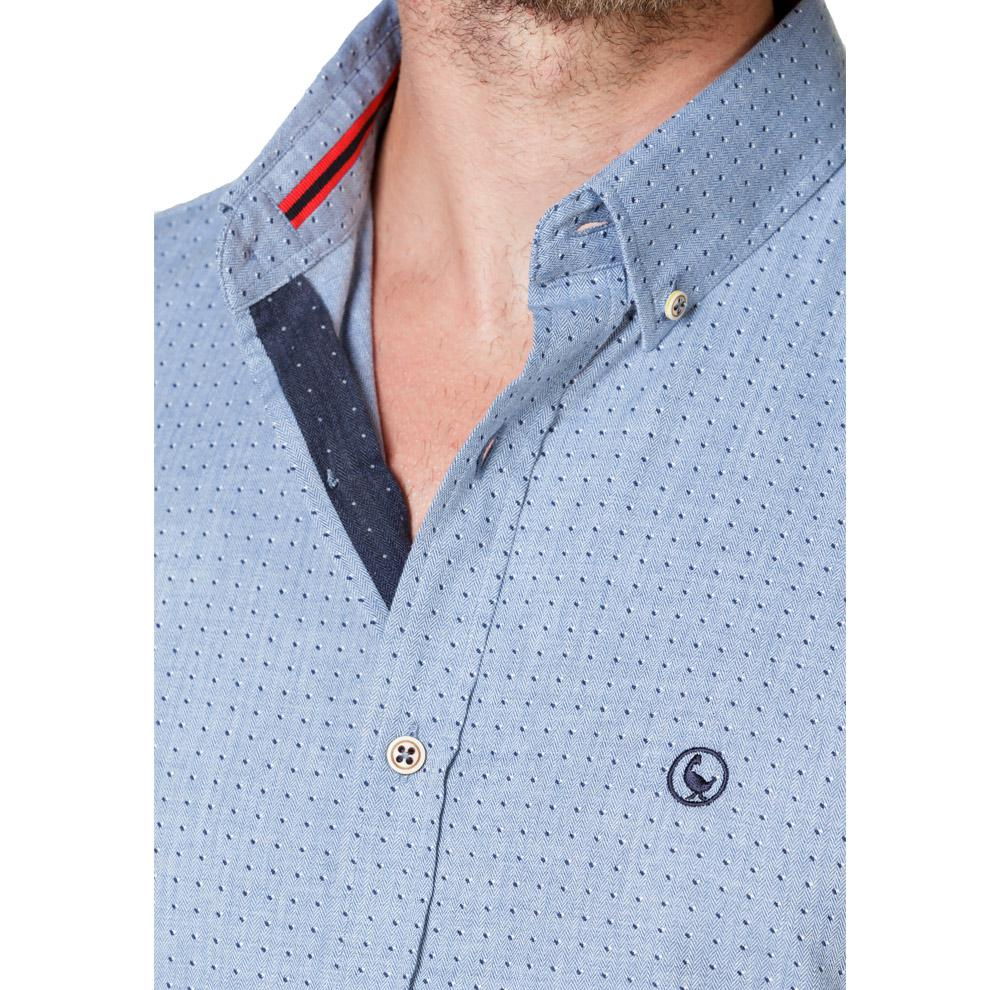teeshirt: (121, 10, 855, 990)
